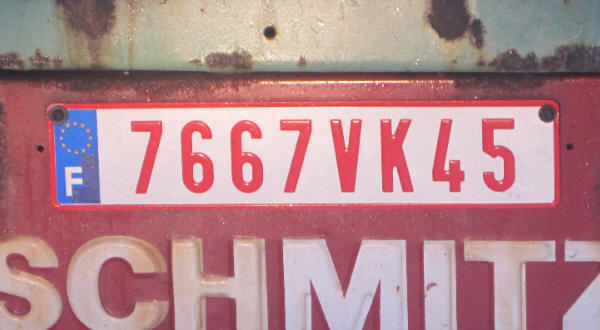license_plate: (49, 101, 560, 210)
